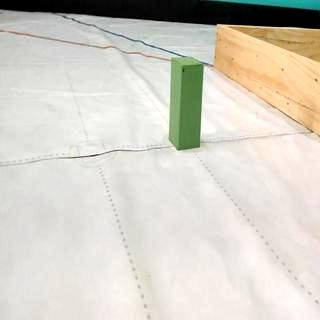greenbox: (167, 54, 204, 150)
